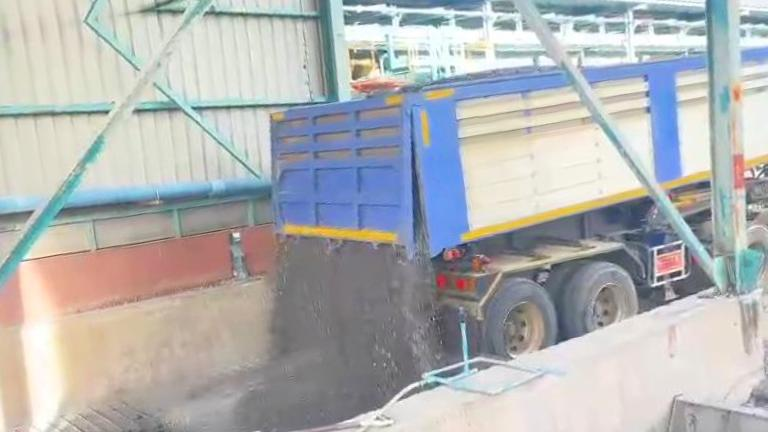gravel: (196, 237, 445, 432), (752, 340, 768, 432)
